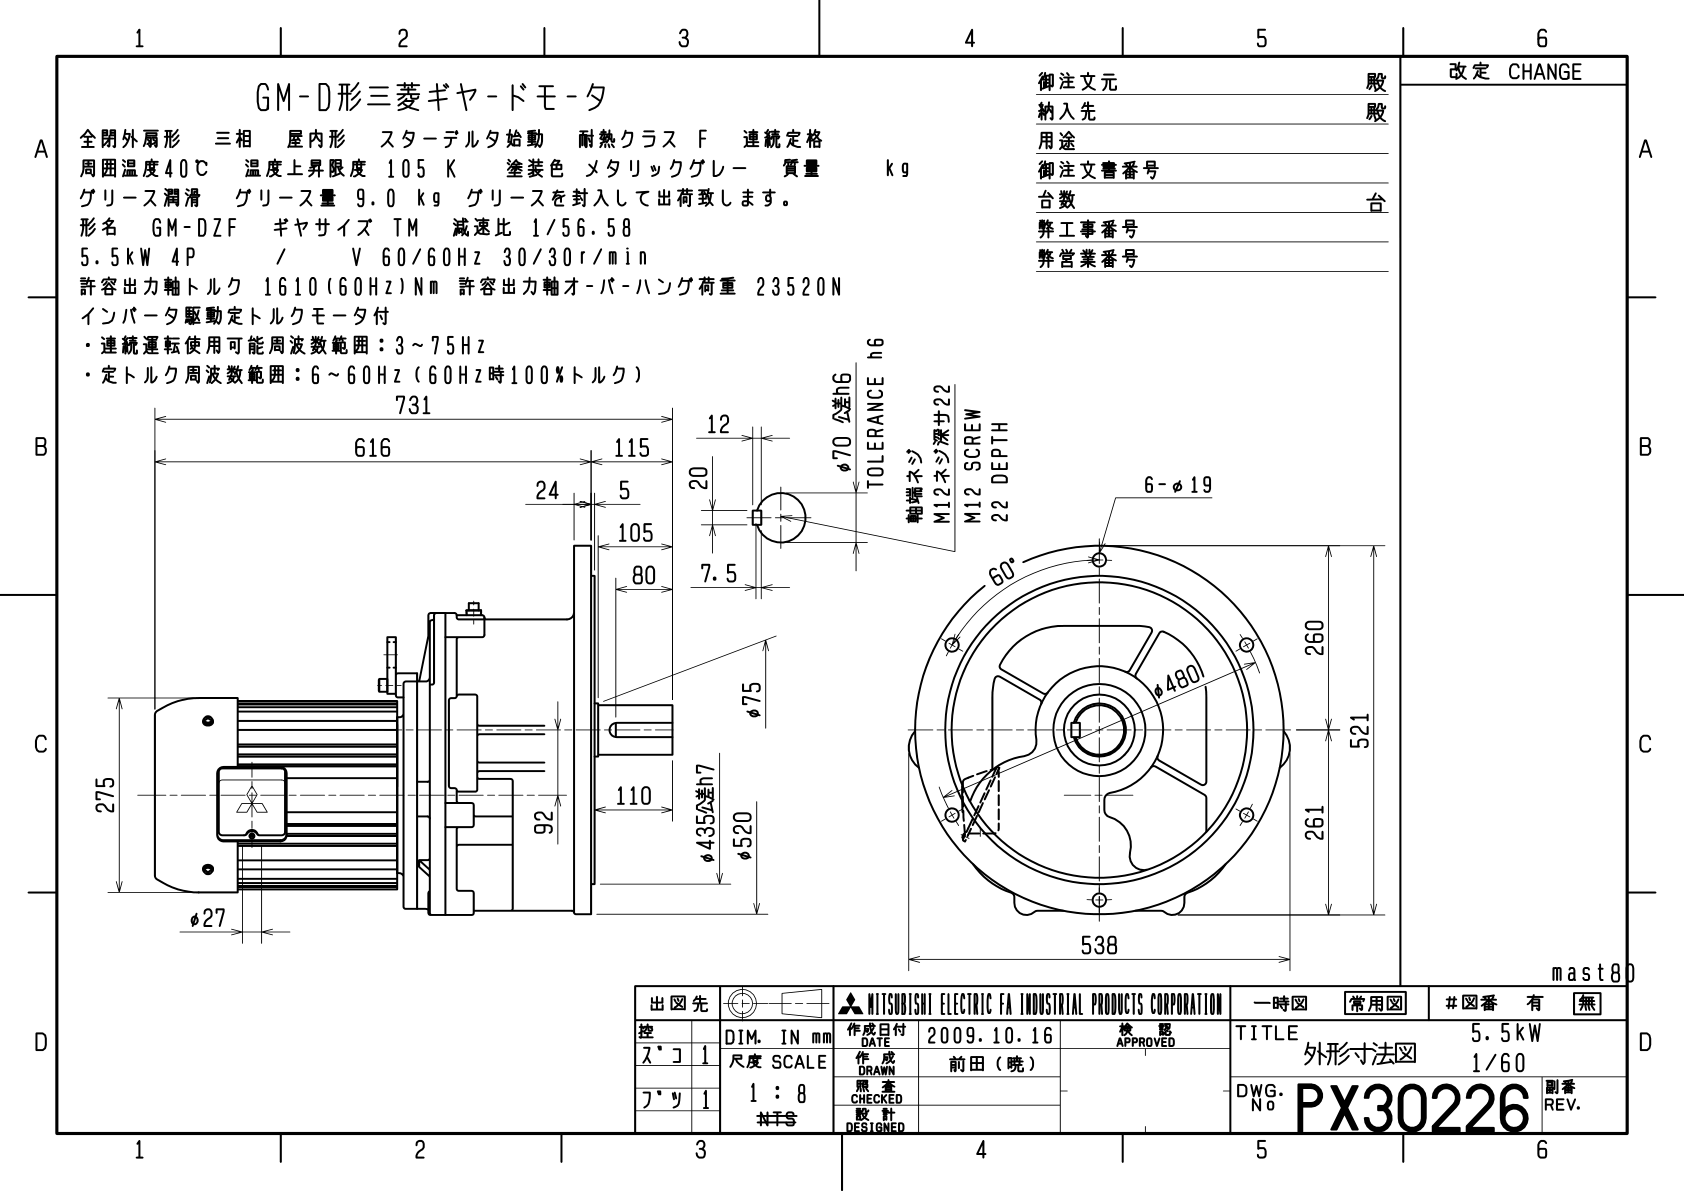GM_D_インバータ屋内_三相_フランジ: (1, 1, 1678, 1170)
